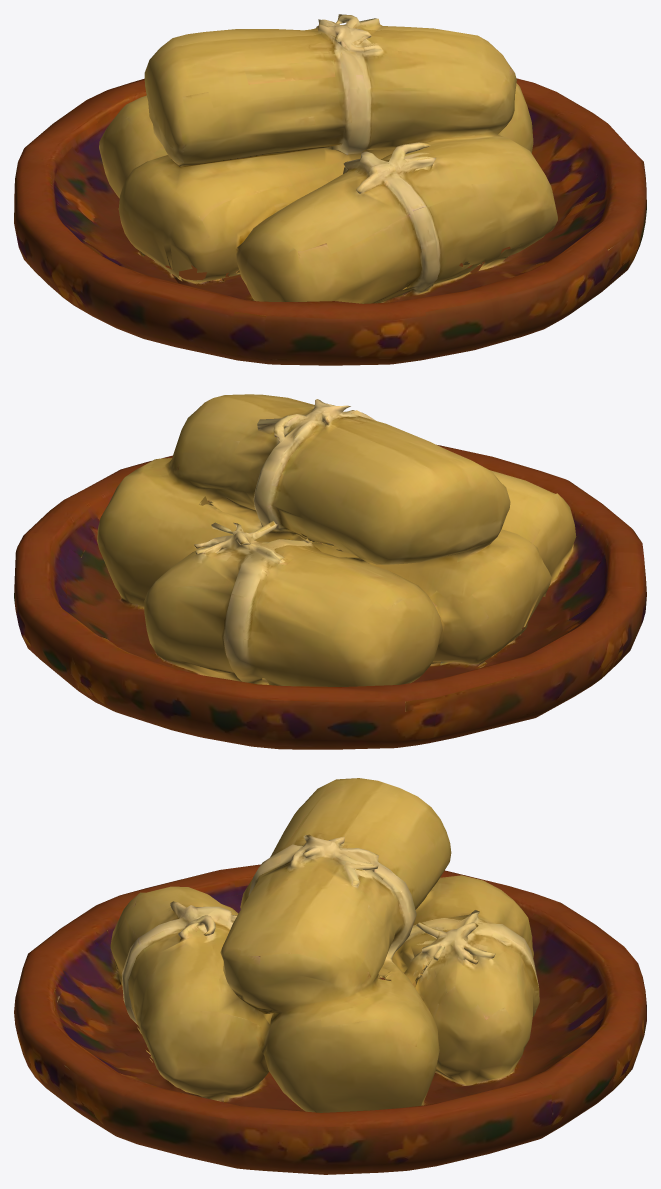
The model's file is tamales-optimized.glb.
The picture shows the model from 3 angles, top to bottom: view 1: azimuth 30°, elevation 25°; view 2: azimuth 150°, elevation 25°; view 3: azimuth 270°, elevation 25°; orthographic projection.
Visible parts, largest first — view 1: Mesh_0; view 2: Mesh_0; view 3: Mesh_0.
Part boxes in pixels (<box>): Mesh_0: <box>14,14,646,365</box>; Mesh_0: <box>14,394,646,749</box>; Mesh_0: <box>14,778,646,1174</box>.
Bounding box in the file's own units: 1.9 × 0.7764 × 1.89.
1 material, 1 textured.
